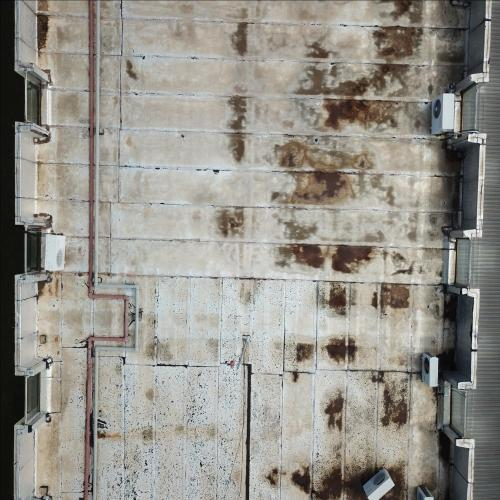conde: (428, 90, 459, 142), (361, 464, 399, 500), (43, 230, 70, 275), (420, 350, 442, 391), (414, 481, 438, 500)
